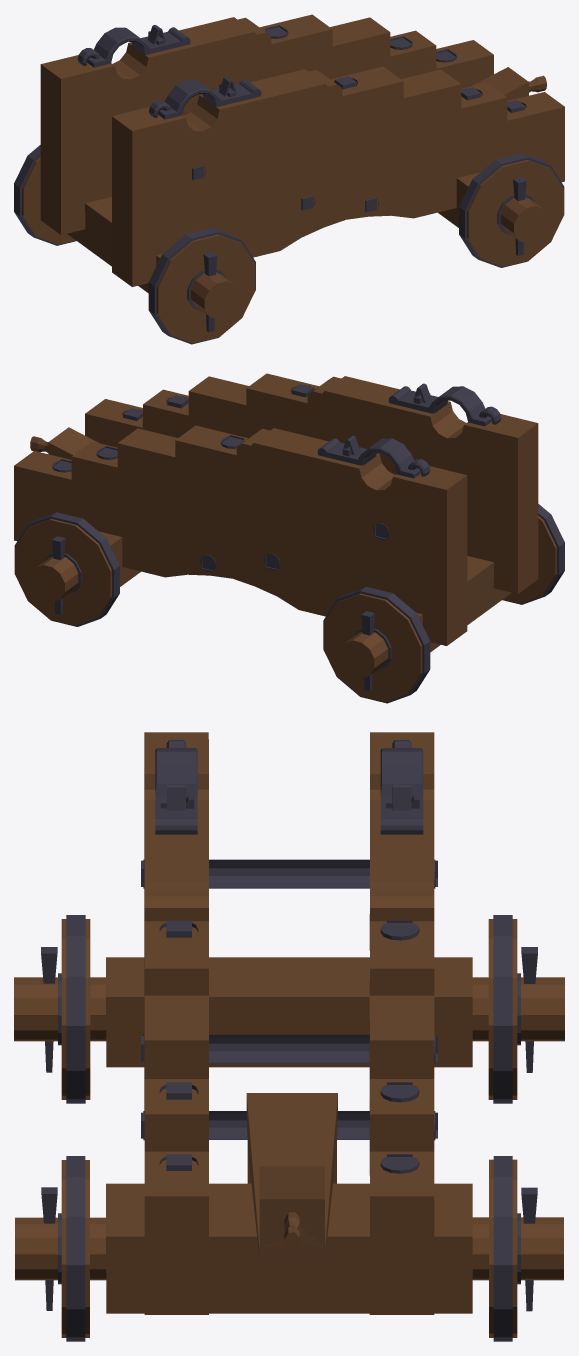
Rendered from Naval Carriage.fbx.
3 views of the same model, one above another, from view 1: azimuth 30°, elevation 25°; view 2: azimuth 150°, elevation 25°; view 3: azimuth 270°, elevation 25° (orthographic). The views are drawn at different scales.
Parts seen in each view (by area): view 1: Naval Carriage; view 2: Naval Carriage; view 3: Naval Carriage.
Part boxes in pixels (x1,y1,x2,y2): Naval Carriage: (14,14,564,344); Naval Carriage: (14,373,564,703); Naval Carriage: (14,732,564,1341).
Size of the model in its own units: 195 by 91.51 by 127.
